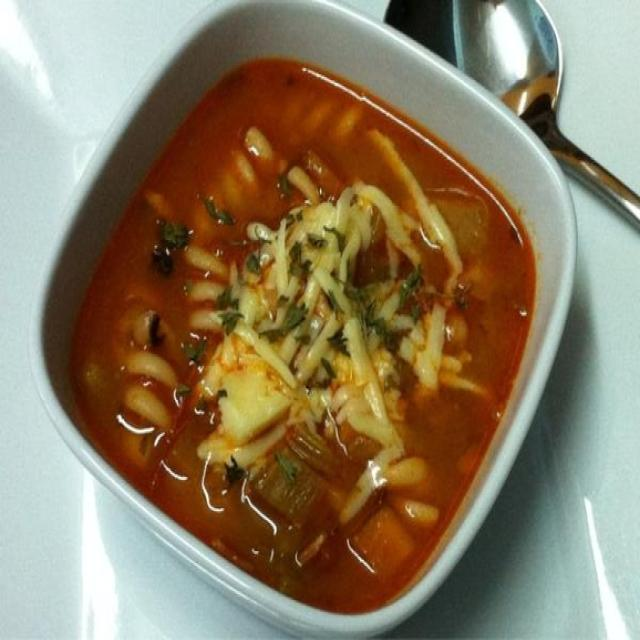汤锅炖物: (30, 15, 566, 624)
